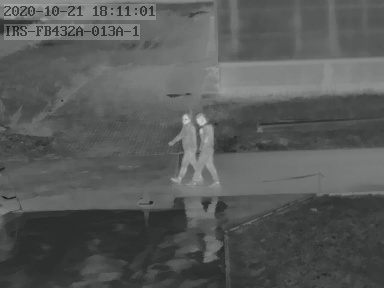person: (168, 114, 198, 182), (195, 113, 218, 182)
